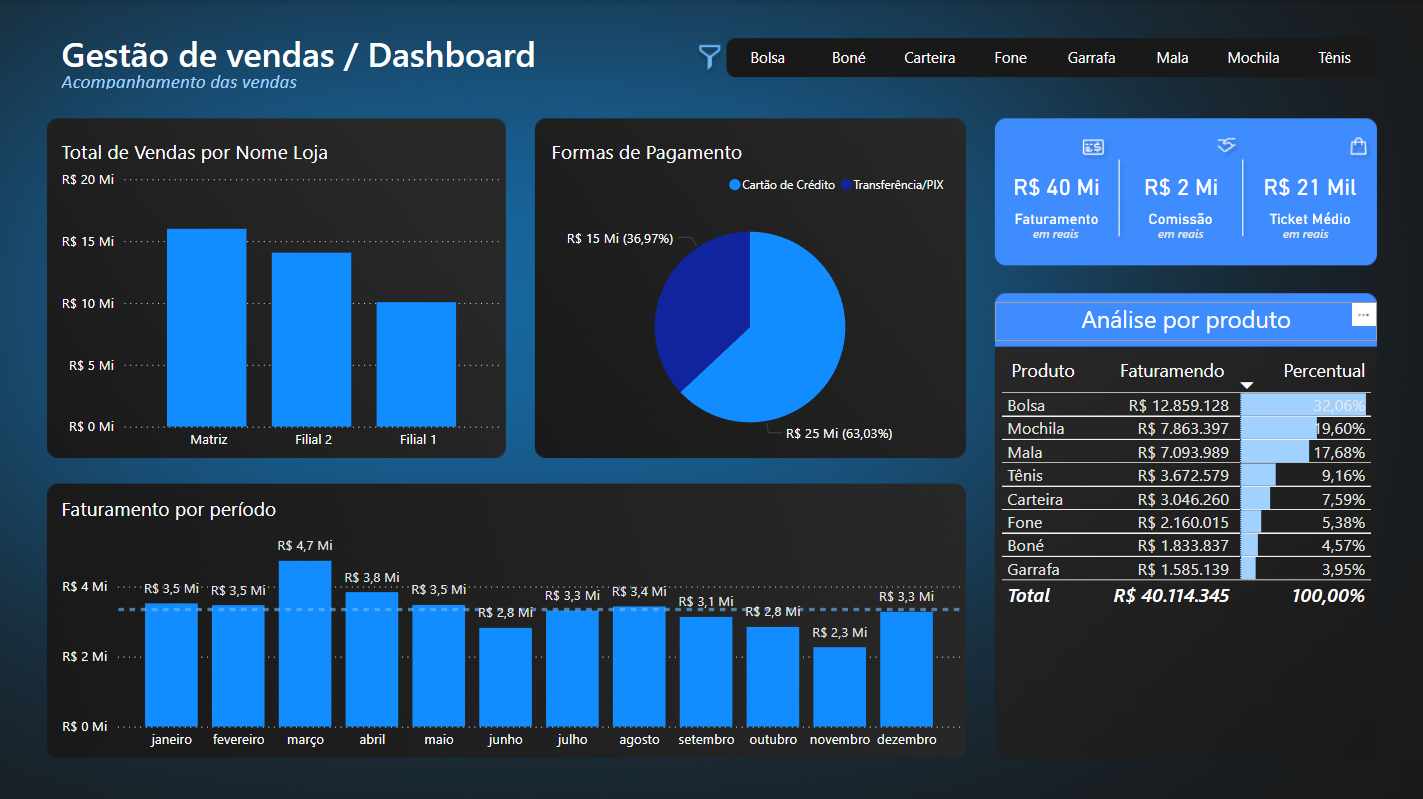

This screenshot's page, from the dashboard's own definition file:
{"tool":"powerbi","page":{"name":"Página 1","canvas":[1280,720],"ordinal":0},"visuals":[{"type":"card","fields":{"Values":["Sum(registroVendas.Total de Vendas)"]},"box":[892.4,150.8,112.2,34.1],"z":0},{"type":"card","fields":{"Values":["Avg(registroVendas.Total de Vendas)"]},"box":[1115.9,150.8,120.3,34.1],"z":1000},{"type":"clusteredColumnChart","title":"Faturamento por período","fields":{"Y":["Sum(registroVendas.Total de Vendas)"],"Category":["registroVendas.Data Pedido.Variation.Hierarquia de datas.Mês"]},"box":[50.3,444.4,817,237.9],"z":2000},{"type":"pieChart","title":"Formas de Pagamento","fields":{"Y":["Sum(registroVendas.Total de Vendas)"],"Category":["Vendas.Pagamento"]},"box":[490.2,123.9,366.3,289.1],"z":3000},{"type":"columnChart","title":" Total de Vendas por Nome Loja","fields":{"Category":["Lojas.Nome Loja"],"Y":["Sum(Vendas.Total de Vendas)"]},"box":[50.3,123.9,405.8,289.1],"z":4000},{"type":"tableEx","fields":{"Values":["Vendas.Produto","Sum(Vendas.Total de Vendas)","Divide(Sum(Vendas.Total de Vendas), ScopedEval(Sum(Vendas.Total de Vendas), []))"]},"box":[893.3,316,342.9,255.9],"z":5000},{"type":"slicer","fields":{"Values":["Vendas.Produto"]},"box":[660,36.8,600.6,27.8],"z":6000},{"type":"textbox","title":"Gestão de vendas / Dashboard","box":[50,27,511.7,49.4],"z":7000},{"type":"textbox","title":"Acompanhamento das vendas","box":[50.3,62,238.8,18],"z":8000},{"type":"card","fields":{"Values":["Vendas.Comissão"]},"box":[1004.6,150.8,111.3,34.1],"z":9000},{"type":"textbox","title":"Faturamento","box":[892.4,189.4,112.2,18.9],"z":10000},{"type":"textbox","title":"Comissão","box":[1003.7,189.4,112.2,18.9],"z":11000},{"type":"textbox","title":"Ticket Médio","box":[1115.9,189.4,120.3,18.9],"z":12000},{"type":"textbox","title":"em reais","box":[891.5,202,112.2,12.6],"z":13000},{"type":"textbox","title":"em reais","box":[1003.7,202,112.2,12.6],"z":14000},{"type":"textbox","title":"em reais","box":[1115.9,202,112.2,12.6],"z":15000},{"type":"textbox","title":"Filtros","box":[622,38.6,61.9,25.1],"z":16000},{"type":"textbox","title":"Análise por produto","box":[893.3,274,342.9,35],"z":17000}]}

Visuals, with their boxes in screenshot pixels (x1, y1, x2, y2), scaled from the page's 1280x720 canvas onto the 1423x799 screenshot:
card - Sum(registroVendas.Total de Vendas): bbox=(992, 167, 1117, 205)
card - Avg(registroVendas.Total de Vendas): bbox=(1241, 167, 1374, 205)
"Faturamento por período" clusteredColumnChart: bbox=(56, 493, 964, 757)
"Formas de Pagamento" pieChart: bbox=(545, 137, 952, 458)
" Total de Vendas por Nome Loja" columnChart: bbox=(56, 137, 507, 458)
tableEx - Vendas.Produto x Sum(Vendas.Total de Vendas): bbox=(993, 351, 1374, 635)
slicer - Vendas.Produto: bbox=(734, 41, 1401, 72)
"Gestão de vendas / Dashboard" textbox: bbox=(56, 30, 624, 85)
"Acompanhamento das vendas" textbox: bbox=(56, 69, 321, 89)
card - Vendas.Comissão: bbox=(1117, 167, 1241, 205)
"Faturamento" textbox: bbox=(992, 210, 1117, 231)
"Comissão" textbox: bbox=(1116, 210, 1241, 231)
"Ticket Médio" textbox: bbox=(1241, 210, 1374, 231)
"em reais" textbox: bbox=(991, 224, 1116, 238)
"em reais" textbox: bbox=(1116, 224, 1241, 238)
"em reais" textbox: bbox=(1241, 224, 1365, 238)
"Filtros" textbox: bbox=(691, 43, 760, 71)
"Análise por produto" textbox: bbox=(993, 304, 1374, 343)
